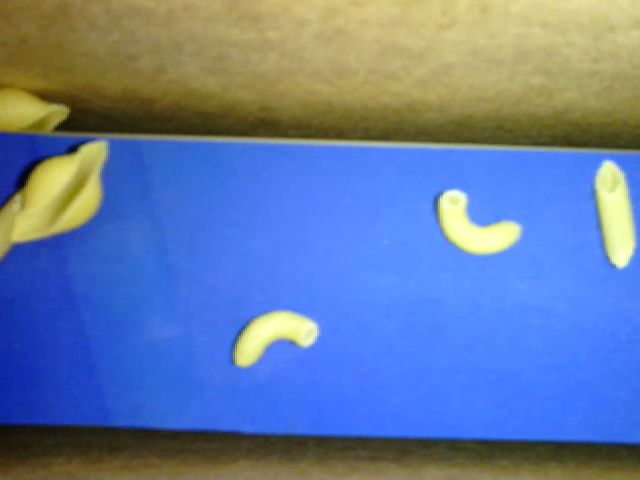elbow: (437, 189, 522, 256), (233, 311, 322, 369)
penne: (593, 156, 636, 270), (2, 184, 22, 265)
shell: (12, 138, 109, 243), (1, 76, 68, 135)
